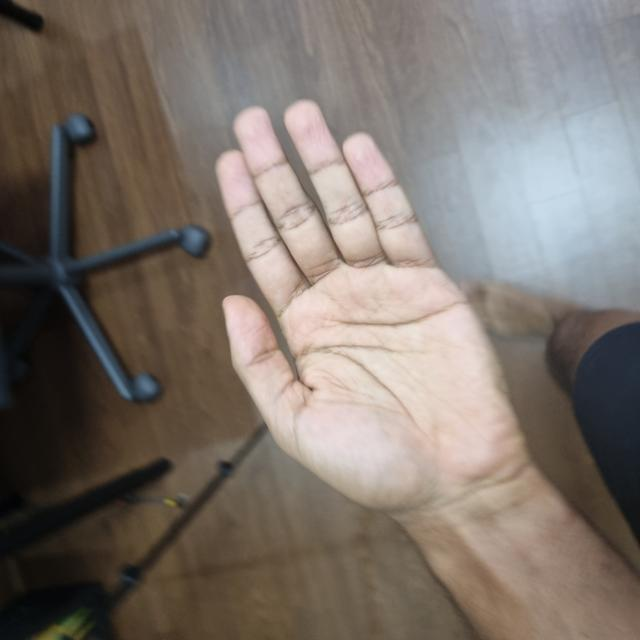Paper: (136, 221, 531, 523)
